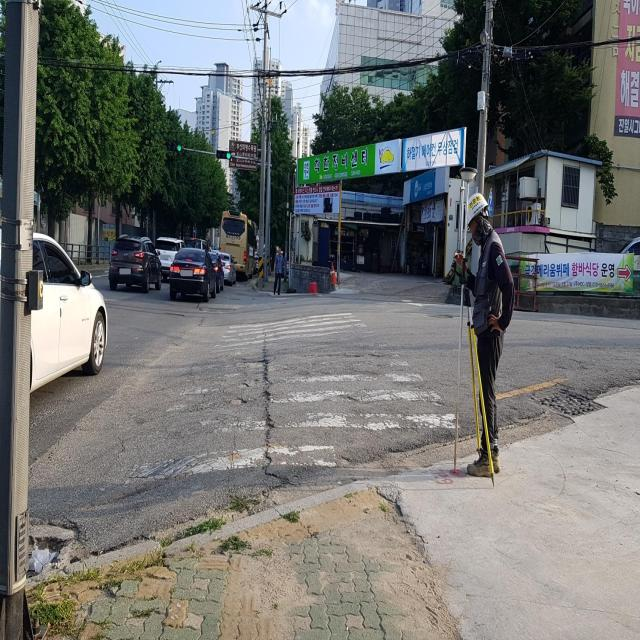횡단보도: (123, 312, 461, 489)
